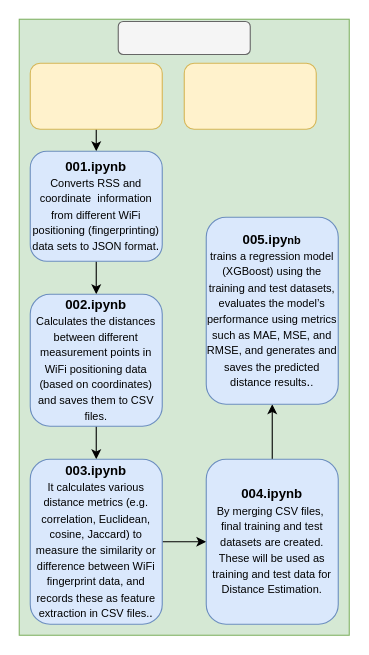
This 369x655 diagram has some shape labels left out. Here are the shapes that lost their labels. From the top down, the centre of each, then its label:
At point (183, 37): "Distance Estimation".
At point (95, 95): "000.ipynb Finds the relevant zip files and extracts them to folders.".
At point (249, 95): "GTCreator.py Creates label for dataset 4 (UJIndoorLoc)".
